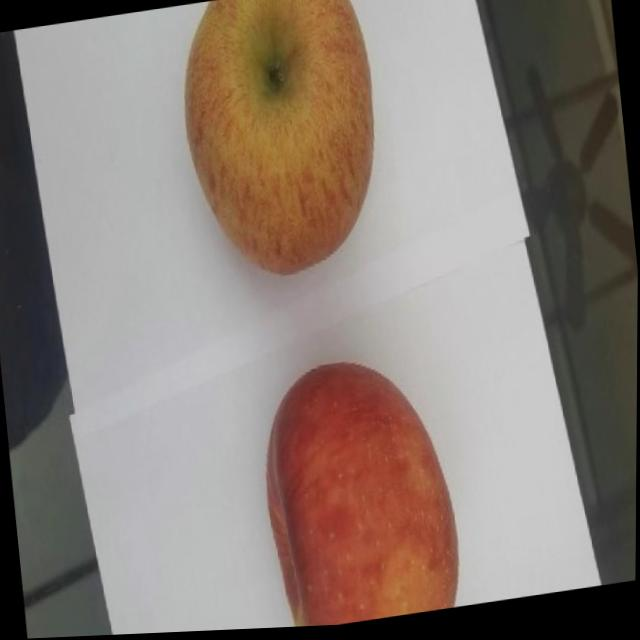Apple: (172, 0, 392, 292), (253, 350, 467, 631)
